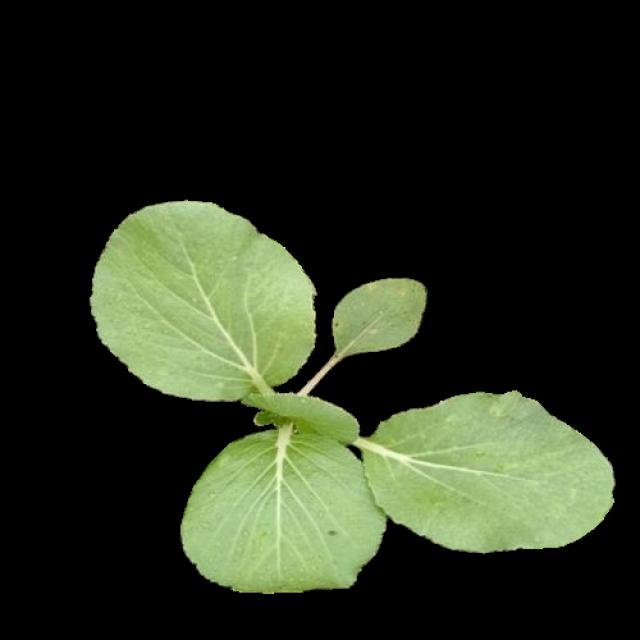not-mature: (88, 198, 612, 589)
unhealthy: (332, 278, 423, 360)
